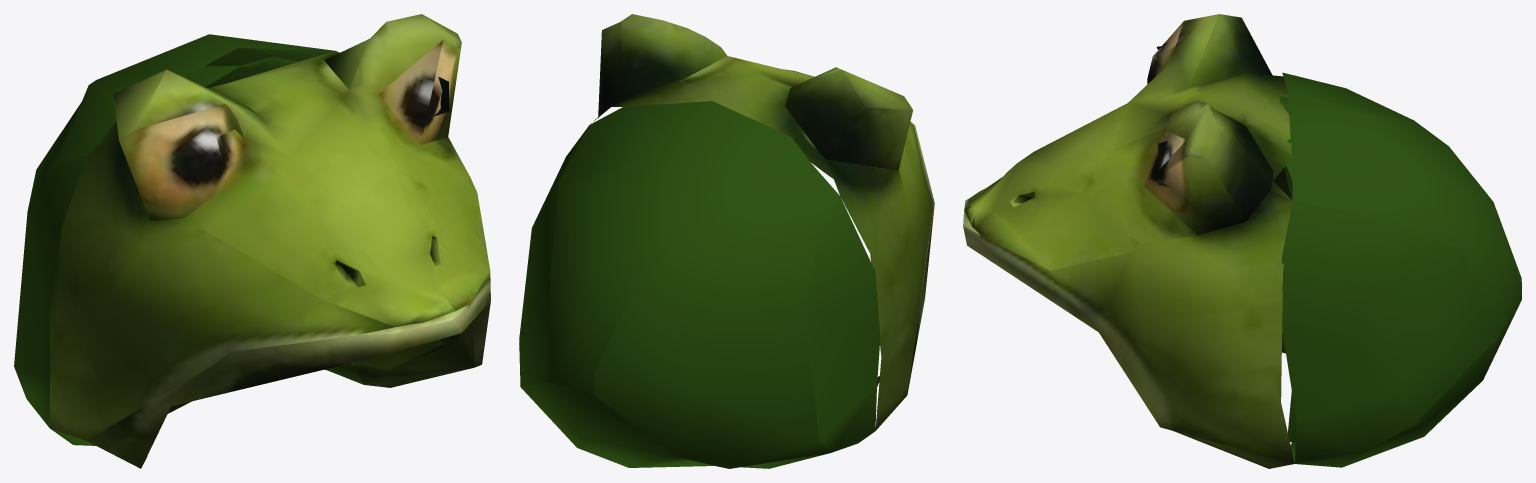
Rendered from frog.glb.
3 renders of one model, left to right at view 1: azimuth 30°, elevation 25°; view 2: azimuth 150°, elevation 25°; view 3: azimuth 270°, elevation 25°, orthographic. The views are drawn at different scales.
Parts seen in each view (by area): view 1: geometry_0; view 2: geometry_0; view 3: geometry_0.
Boxes of the visible parts, x1=… form: geometry_0: x1=14, y1=14, x2=490, y2=468; geometry_0: x1=519, y1=14, x2=934, y2=468; geometry_0: x1=963, y1=14, x2=1521, y2=468.
Size of the model in its own units: 0.4577 by 0.4628 by 0.668.
2 materials, 1 textured.
